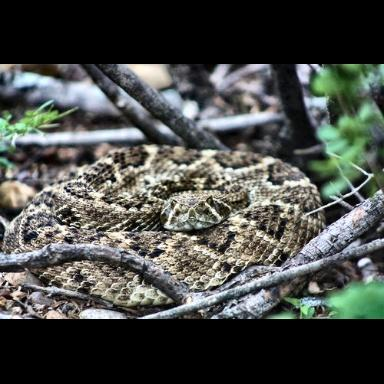snake: (0, 146, 325, 309)
